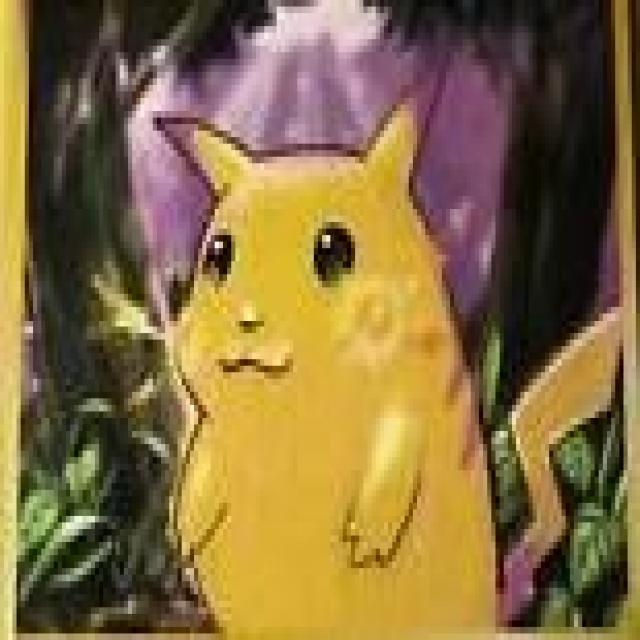pikachu: (152, 48, 624, 636)
